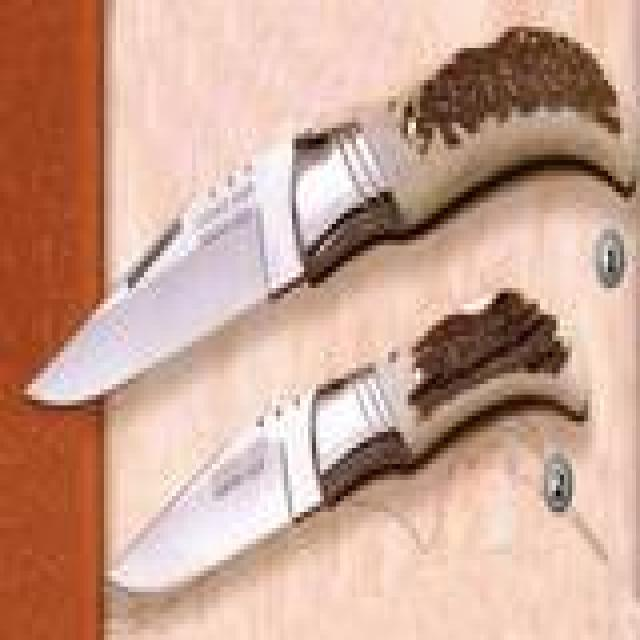Knife: (15, 27, 628, 619)
